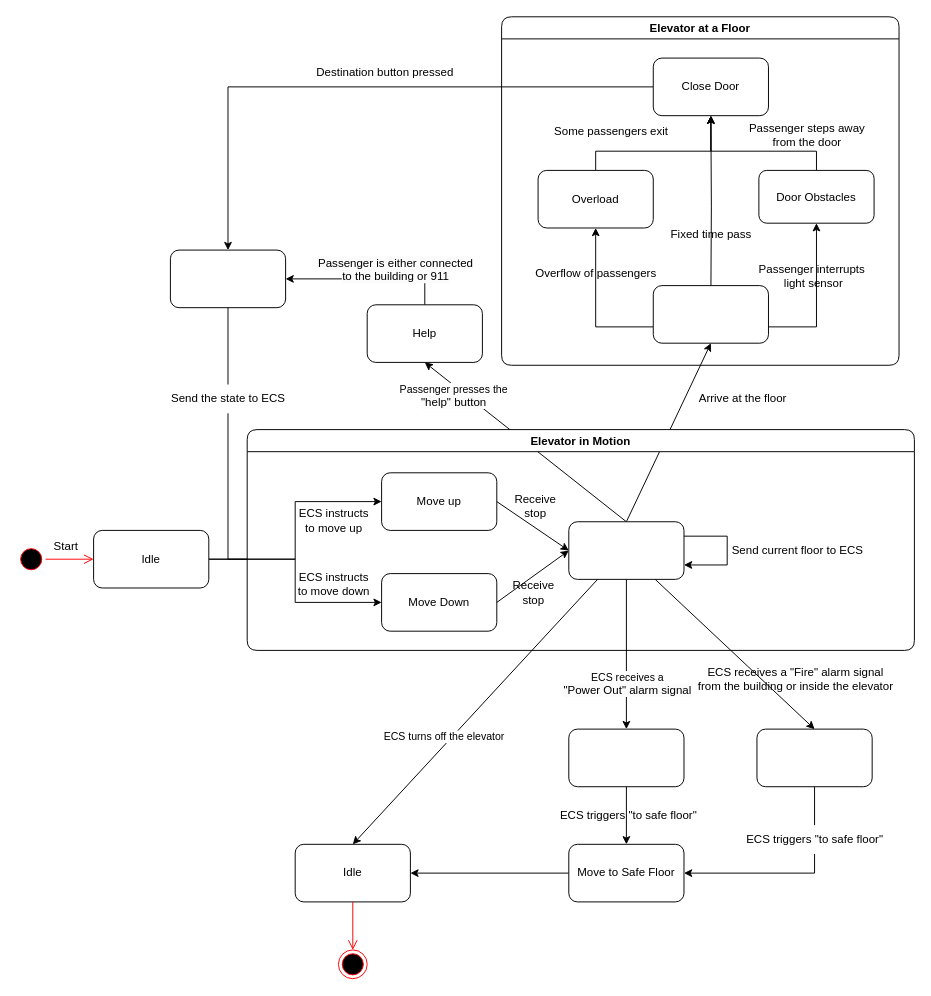
Some shapes in this 931 by 996 pixel diagram are drawn without their labels. Each missing label, with the centre of its shape:
"Fire" belongs at (x=814, y=757).
"move elevator state" belongs at (x=227, y=278).
"Open Door" belongs at (x=710, y=314).
"Power Out" belongs at (x=626, y=757).
"Stop" belongs at (x=626, y=550).
